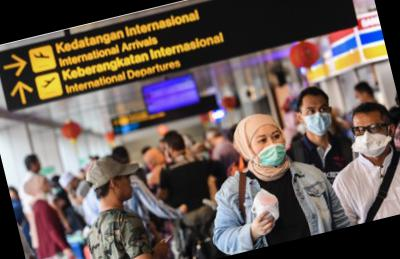with_mask: (245, 126, 293, 173), (349, 115, 394, 160), (299, 101, 336, 139)
without_mask: (118, 173, 138, 200)
